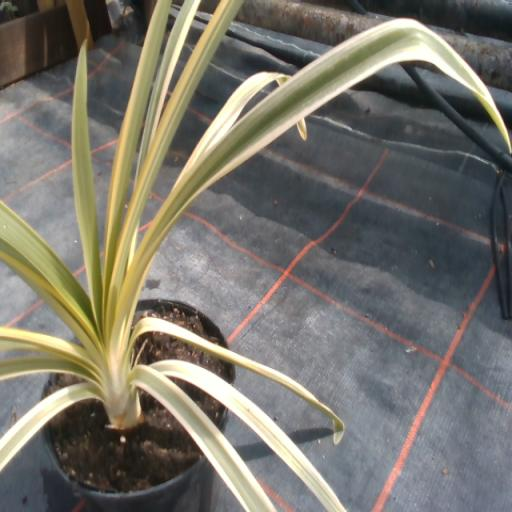Agapanthus-praecox: (121, 19, 511, 293), (107, 0, 243, 311), (151, 359, 345, 511), (135, 319, 343, 443), (102, 0, 170, 305), (134, 369, 274, 511), (0, 202, 98, 339), (178, 71, 290, 180), (135, 0, 200, 180), (72, 49, 102, 326), (0, 384, 95, 469), (0, 327, 92, 370), (0, 356, 93, 380), (312, 466, 345, 511)
